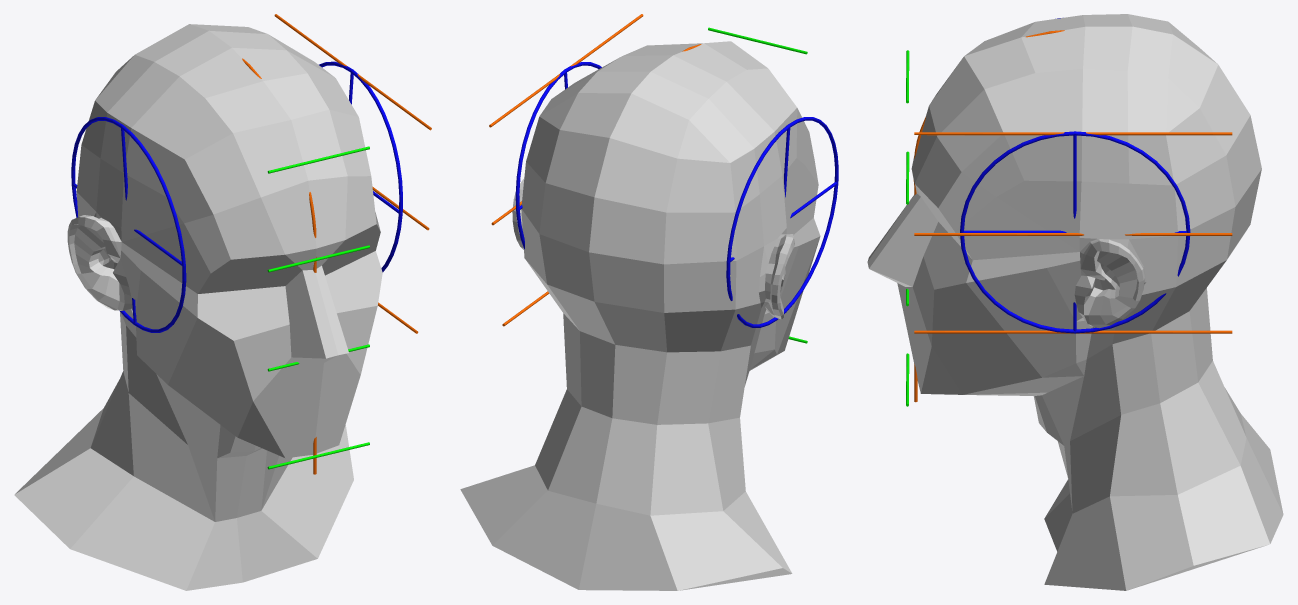
The picture shows the model from 3 angles, left to right: view 1: azimuth 30°, elevation 25°; view 2: azimuth 150°, elevation 25°; view 3: azimuth 270°, elevation 25°; orthographic projection. The views are drawn at different scales.
Visible parts, largest first — view 1: Model, Right_Side_Plane_Guide, Left_Side_Plane_Guide, Side_Plane_Horizontal_Top_Guide; view 2: Model, Right_Side_Plane_Guide, Left_Side_Plane_Guide, Side_Plane_Horizontal_Top_Guide; view 3: Model, Left_Side_Plane_Guide, Side_Plane_Horizontal_Bottom_Guide, Side_Plane_Horizontal_Top_Guide, Side_Plane_Horizontal_Middle_Guide.
Boxes of the visible parts, x1=… form: Model: x1=14, y1=24, x2=382, y2=590; Right_Side_Plane_Guide: x1=71, y1=117, x2=186, y2=332; Left_Side_Plane_Guide: x1=319, y1=61, x2=402, y2=272; Side_Plane_Horizontal_Top_Guide: x1=274, y1=14, x2=431, y2=130; Model: x1=460, y1=41, x2=820, y2=590; Right_Side_Plane_Guide: x1=726, y1=117, x2=838, y2=327; Left_Side_Plane_Guide: x1=515, y1=62, x2=601, y2=249; Side_Plane_Horizontal_Top_Guide: x1=489, y1=14, x2=643, y2=127; Model: x1=867, y1=14, x2=1283, y2=590; Left_Side_Plane_Guide: x1=960, y1=131, x2=1190, y2=333; Side_Plane_Horizontal_Bottom_Guide: x1=914, y1=330, x2=1232, y2=333; Side_Plane_Horizontal_Top_Guide: x1=914, y1=132, x2=1232, y2=135; Side_Plane_Horizontal_Middle_Guide: x1=914, y1=233, x2=1232, y2=235.
Bounding box in the file's own units: 6.28 × 9.57 × 6.68.
